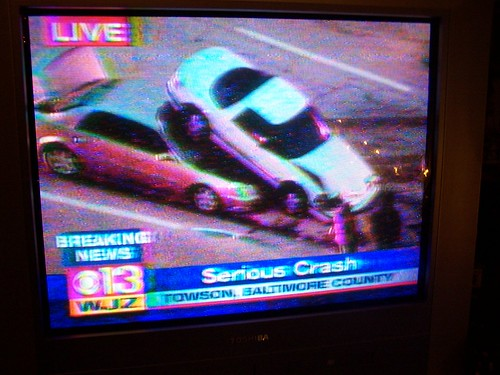car: (181, 47, 387, 241), (37, 85, 265, 213)
